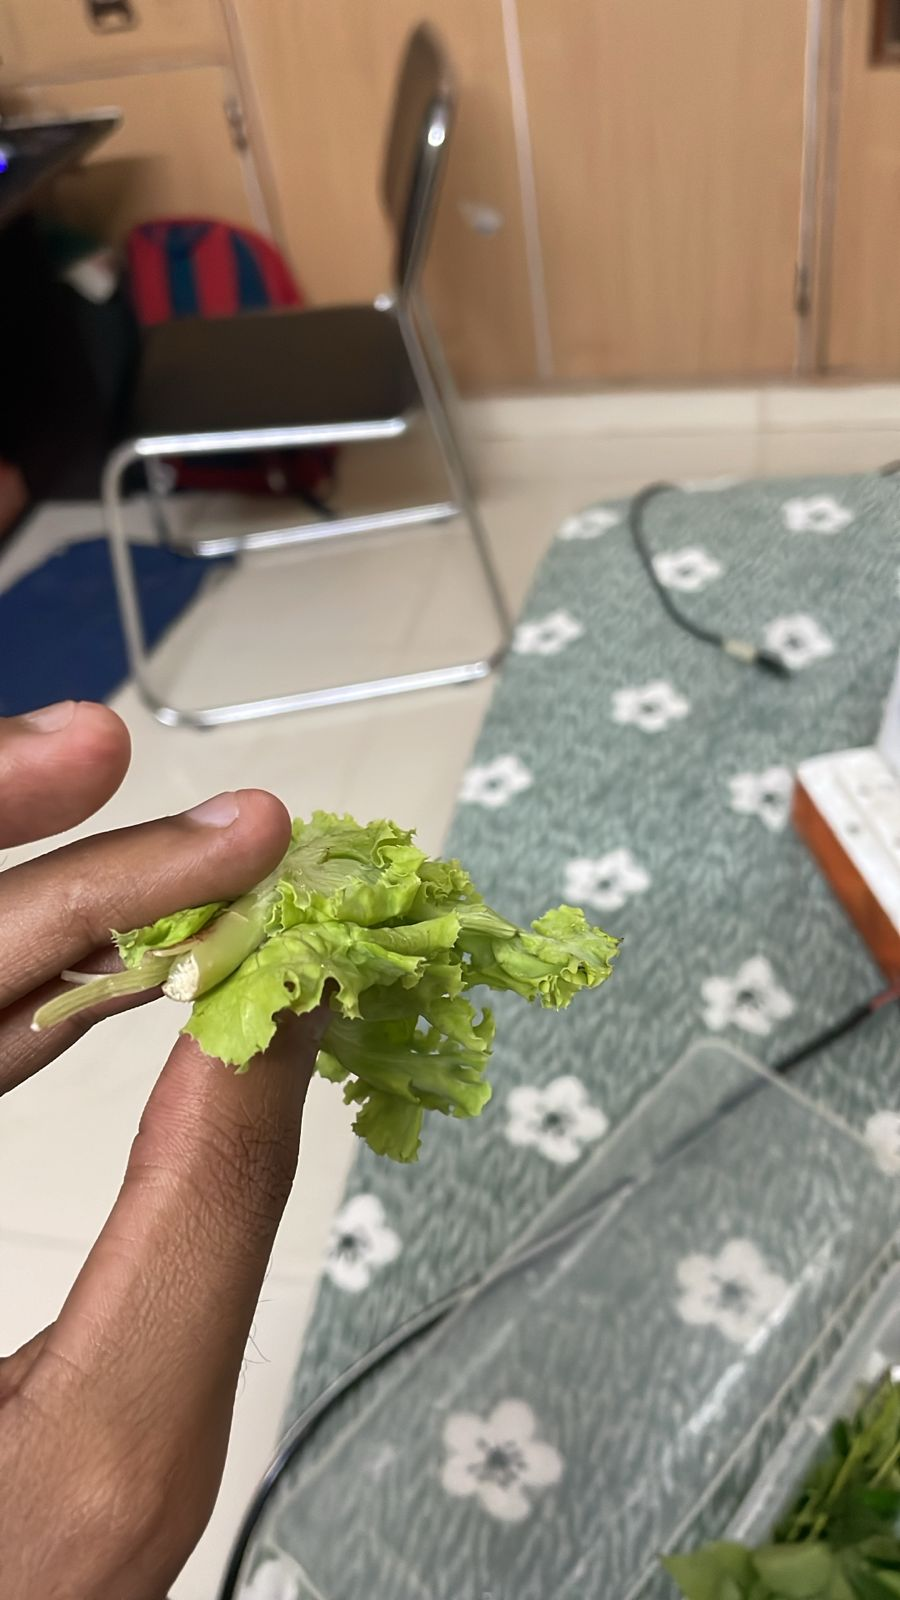wet: (158, 801, 503, 1057)
